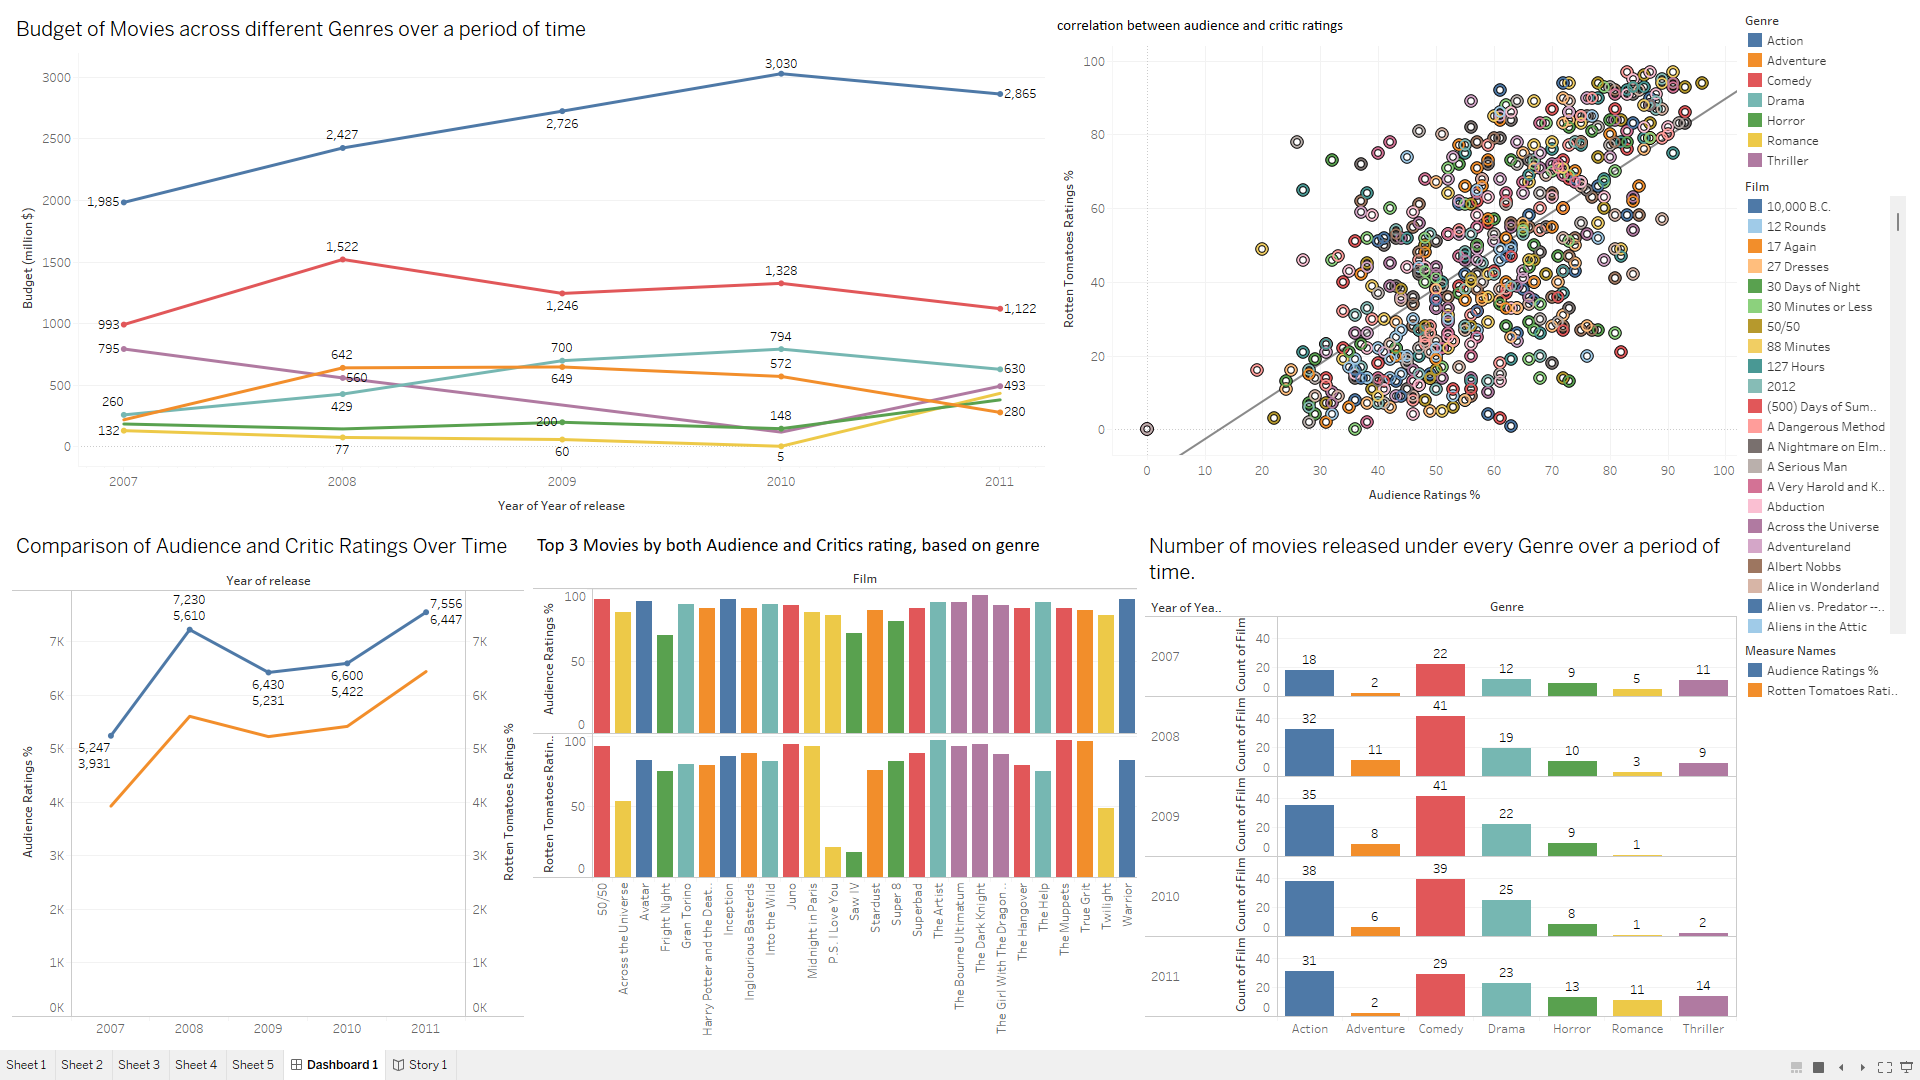

This screenshot's page, from the dashboard's own definition file:
{"tool":"tableau","page":{"name":"Dashboard 1","canvas":[1000,1000],"units":"permille","ordinal":0},"visuals":[{"type":"worksheet","title":"Sheet 1","mark":"Automatic","rows":["Budget (million $)"],"cols":["Year of release"],"box":[4.7,8.9,535.2,491.1]},{"type":"worksheet","title":"Sheet 2","mark":"Automatic","rows":["Rotten Tomatoes Ratings %"],"cols":["Audience Ratings %"],"box":[539.9,8.9,355.4,491.1]},{"type":"legend","title":"Sheet 1","param":"[federated.0ql0ohv0bmhfik157fi5h13sor1i].[none:Genre:nk]","box":[895.3,8.9,100.1,185.3]},{"type":"legend","title":"Sheet 2","param":"[federated.0ql0ohv0bmhfik157fi5h13sor1i].[none:Film:nk]","box":[895.3,194.2,100.1,517.9]},{"type":"worksheet","title":"Sheet 4","mark":"Automatic","rows":["Audience Ratings %","Rotten Tomatoes Ratings %"],"cols":["Year of release"],"box":[4.7,500,267.6,491.1]},{"type":"worksheet","title":"Sheet 5","mark":"Automatic","rows":["Audience Ratings %","Rotten Tomatoes Ratings %"],"cols":["Film"],"box":[272.3,500,314.8,491.1]},{"type":"worksheet","title":"Sheet 3","mark":"Bar","rows":["Year of release","Film"],"cols":["Genre"],"box":[587.1,500,308.2,491.1]},{"type":"legend","title":"Sheet 4","param":"[federated.0ql0ohv0bmhfik157fi5h13sor1i].[:Measure Names]","box":[895.3,712.1,100.1,73.7]}]}

Visuals, with their boxes on the dashboard's canvas, which has no fixed pixel size, in thousandths of its width and height (x1, y1, x2, y2). These are canvas units, not pixel positions in the 1920x1080 screenshot, which may show the page scaled, cropped or inside an application window:
"Sheet 1" worksheet: locate(5, 9, 540, 500)
"Sheet 2" worksheet: locate(540, 9, 895, 500)
"Sheet 1" legend: locate(895, 9, 995, 194)
"Sheet 2" legend: locate(895, 194, 995, 712)
"Sheet 4" worksheet: locate(5, 500, 272, 991)
"Sheet 5" worksheet: locate(272, 500, 587, 991)
"Sheet 3" worksheet (Bar marks): locate(587, 500, 895, 991)
"Sheet 4" legend: locate(895, 712, 995, 786)
